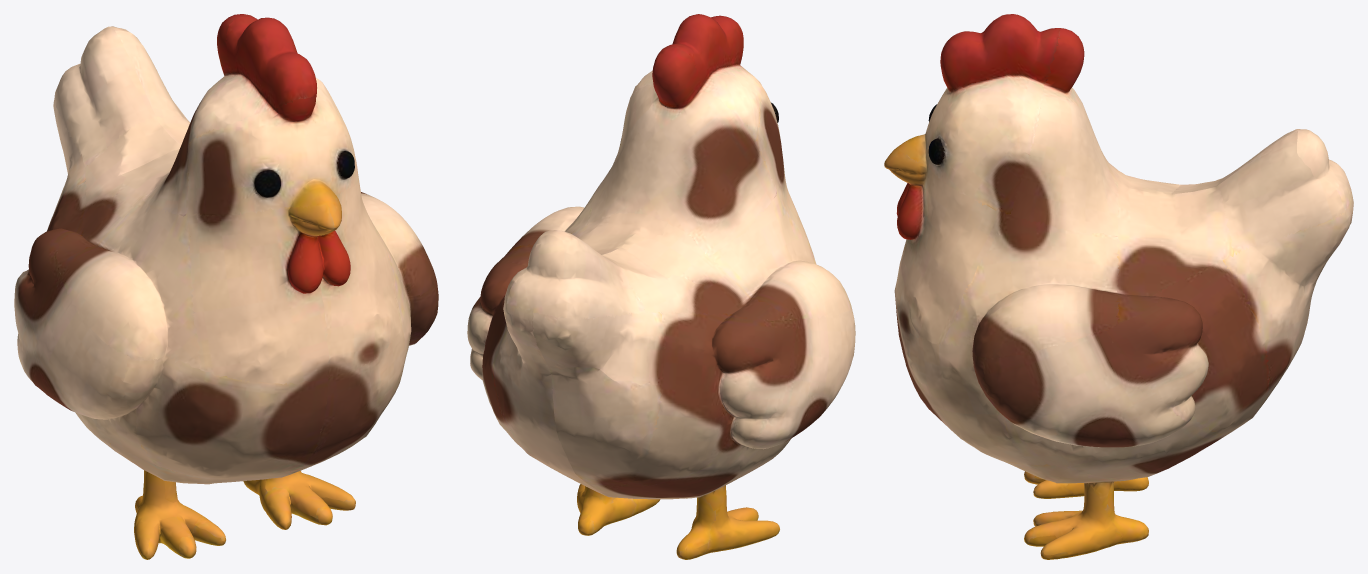
The picture shows the model from 3 angles, left to right: view 1: azimuth 30°, elevation 25°; view 2: azimuth 150°, elevation 25°; view 3: azimuth 270°, elevation 25°; orthographic projection. The views are drawn at different scales.
Size of the model in its own units: 1.34 by 1.9 by 1.62.
Materials: 1 (1 with a texture image).
